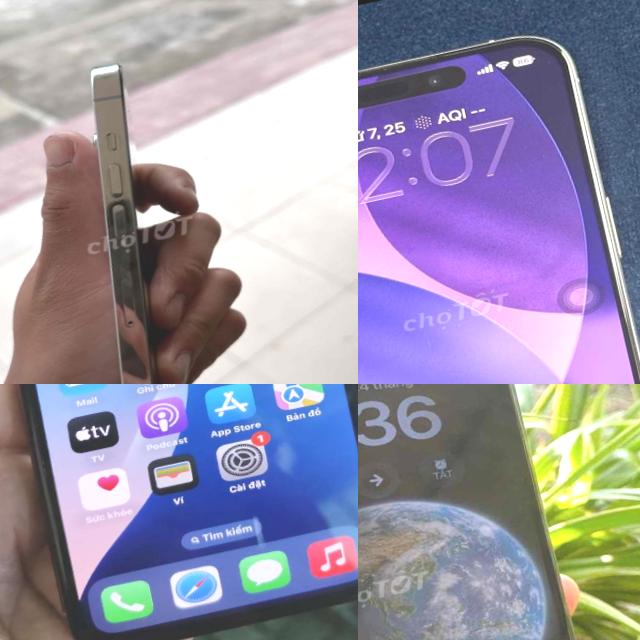gen_11: (21, 384, 358, 640), (358, 384, 640, 640)
gen_14: (34, 45, 223, 384)
gen_15: (358, 0, 640, 384)
